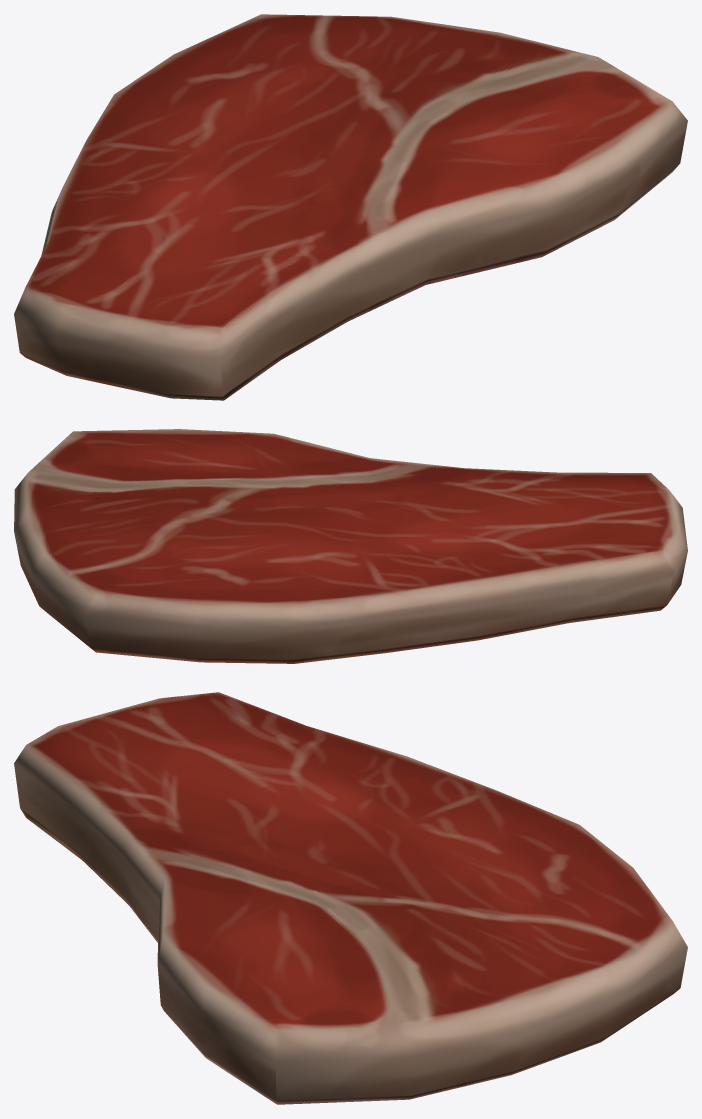
Rendered from Meat_Tbone_Scaled.fbx.
3 views of the same model, one above another, from view 1: azimuth 30°, elevation 25°; view 2: azimuth 150°, elevation 25°; view 3: azimuth 270°, elevation 25° (orthographic). The views are drawn at different scales.
Visible parts, largest first — view 1: Raw_Meat; view 2: Raw_Meat; view 3: Raw_Meat.
Boxes of the visible parts, x1,y1,x2,y2 form: Raw_Meat: (14, 14, 687, 400); Raw_Meat: (14, 429, 687, 663); Raw_Meat: (14, 692, 687, 1104).
Bounding box in the file's own units: 18.68 × 2.24 × 15.04.
